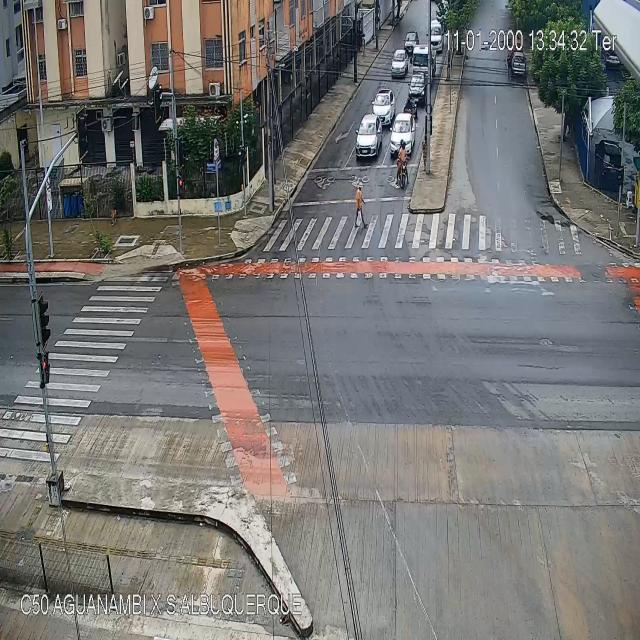Car: (355, 112, 381, 157), (390, 112, 416, 153), (372, 88, 395, 126), (391, 48, 408, 78), (408, 73, 425, 102), (427, 20, 442, 52), (512, 52, 525, 72), (404, 30, 418, 48)
Motorcycle: (396, 138, 409, 189), (404, 98, 419, 122)
Truck: (411, 46, 436, 78)
